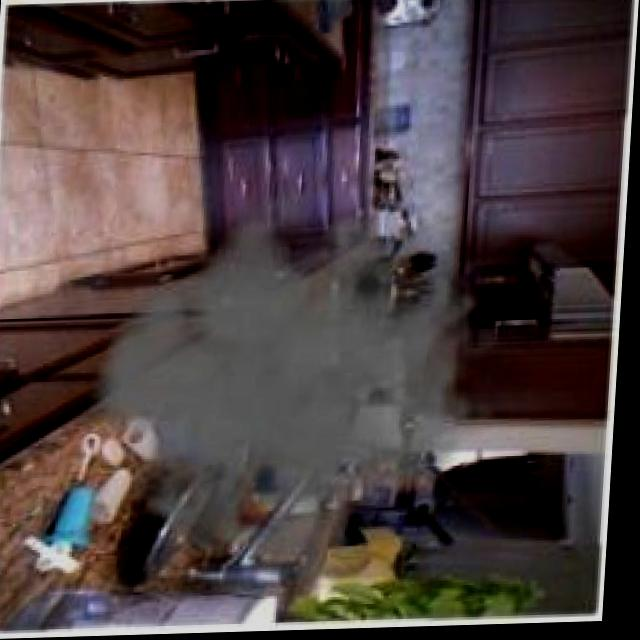Smoke: (77, 170, 515, 607)
